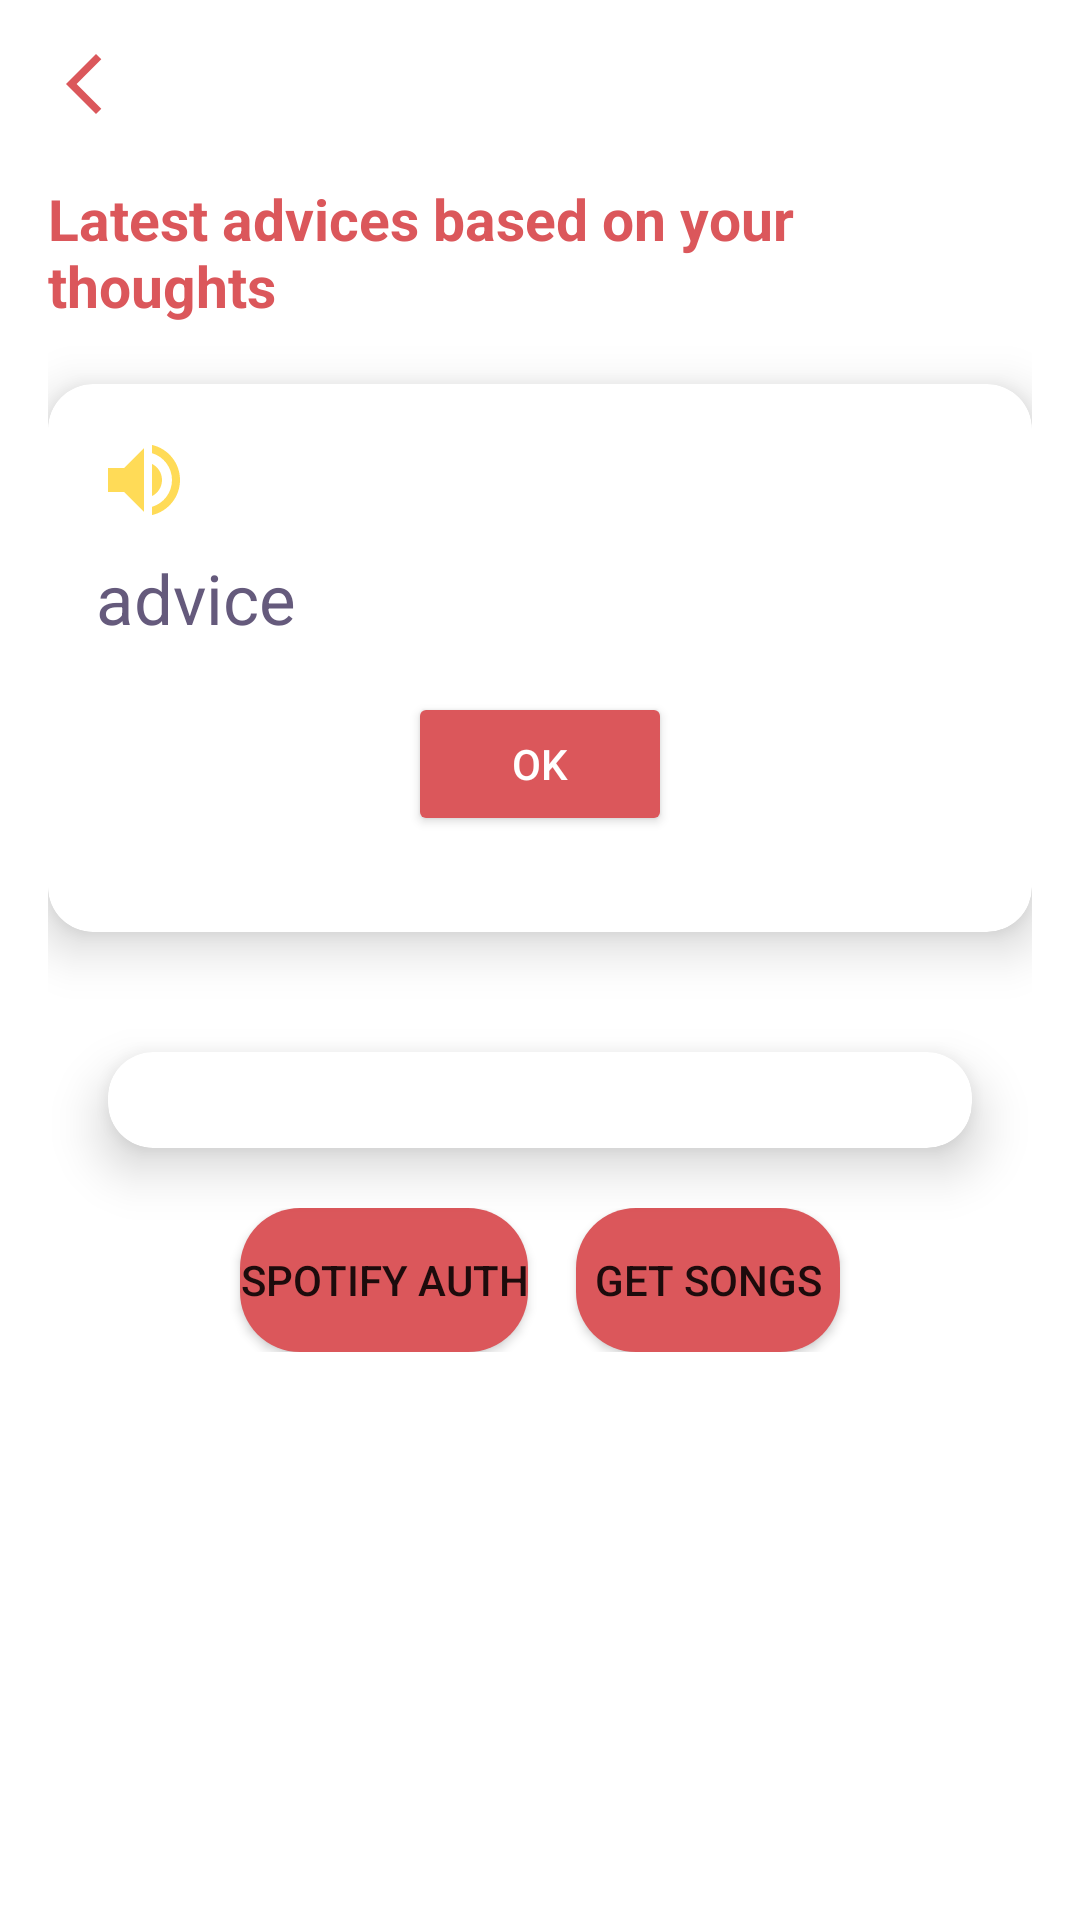

Icon bounding boxes for this 1080px×1920px phone screenshot, format box=[x1, y1, x2, y2]:
arrow back: box=[66, 54, 101, 114]
volume up: box=[108, 445, 180, 515]
